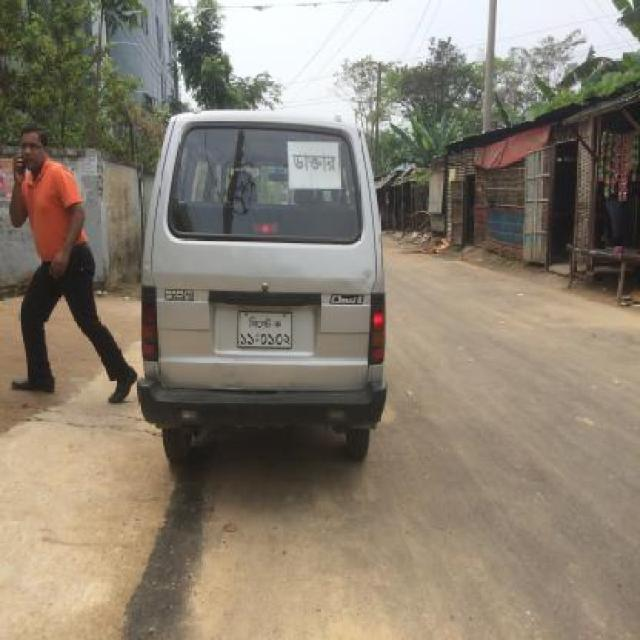numberplate: (213, 301, 315, 356), (234, 309, 293, 350)
